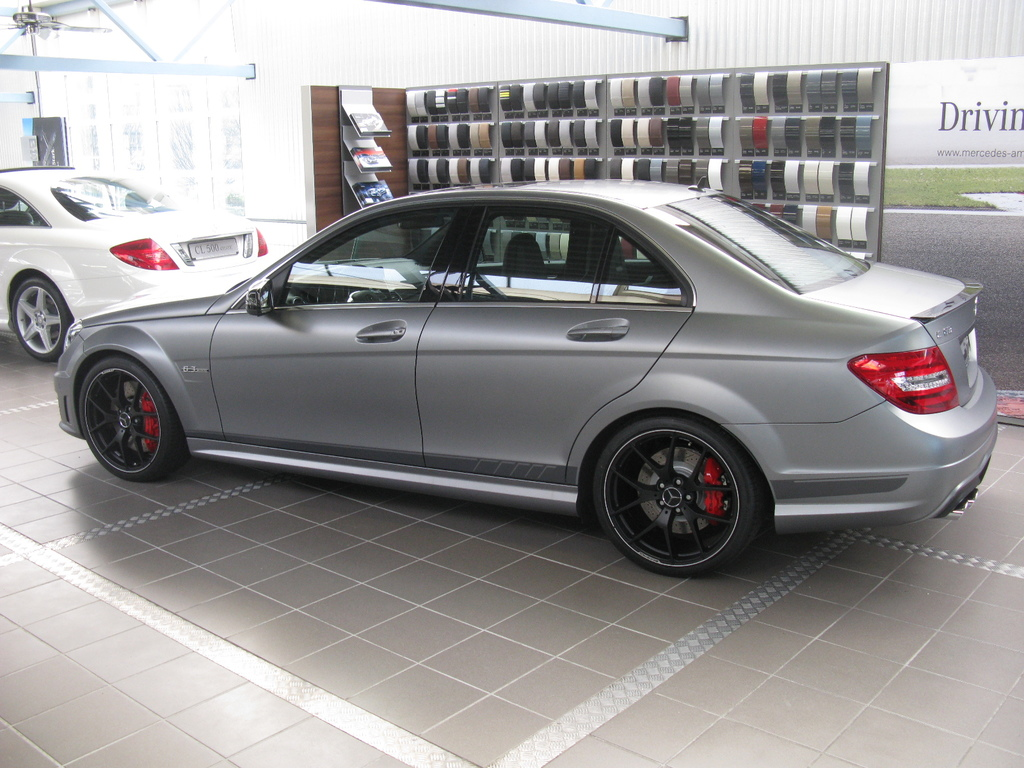Car: (50, 174, 999, 577), (0, 161, 268, 361)
